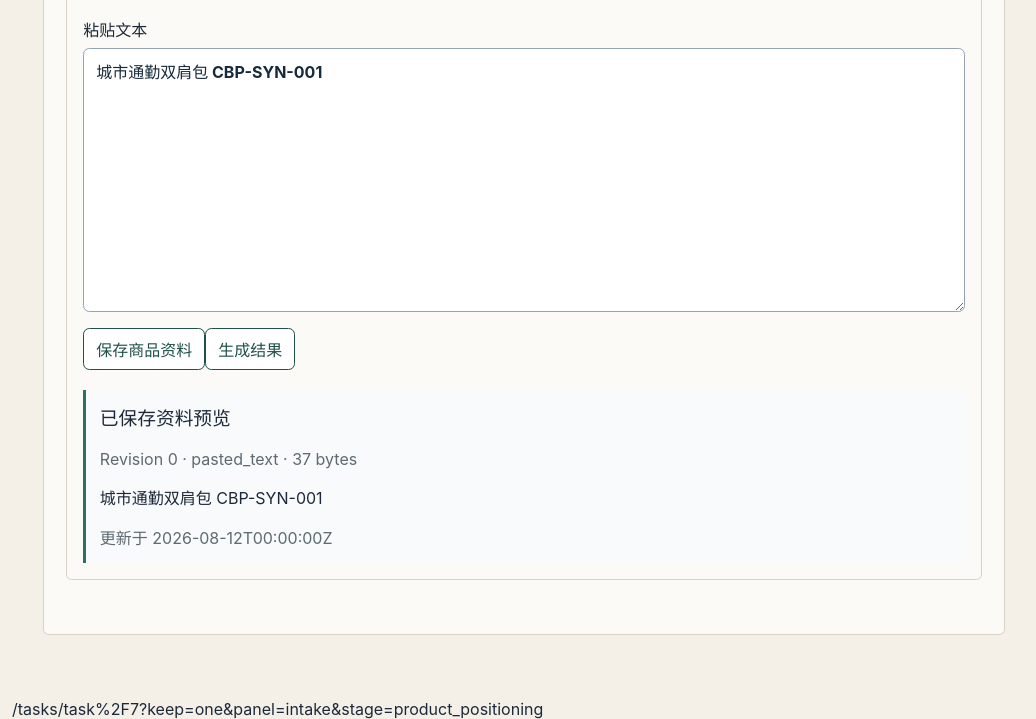
Test: TaskWorkbench › keeps TaskGateway actions and canonical query semantics behind the shell
This screenshot has width=1036, height=719.
(page scrolled)
Click the button "生成结果" at x=250, y=349, box [205, 328, 295, 370]
(page scrolled)
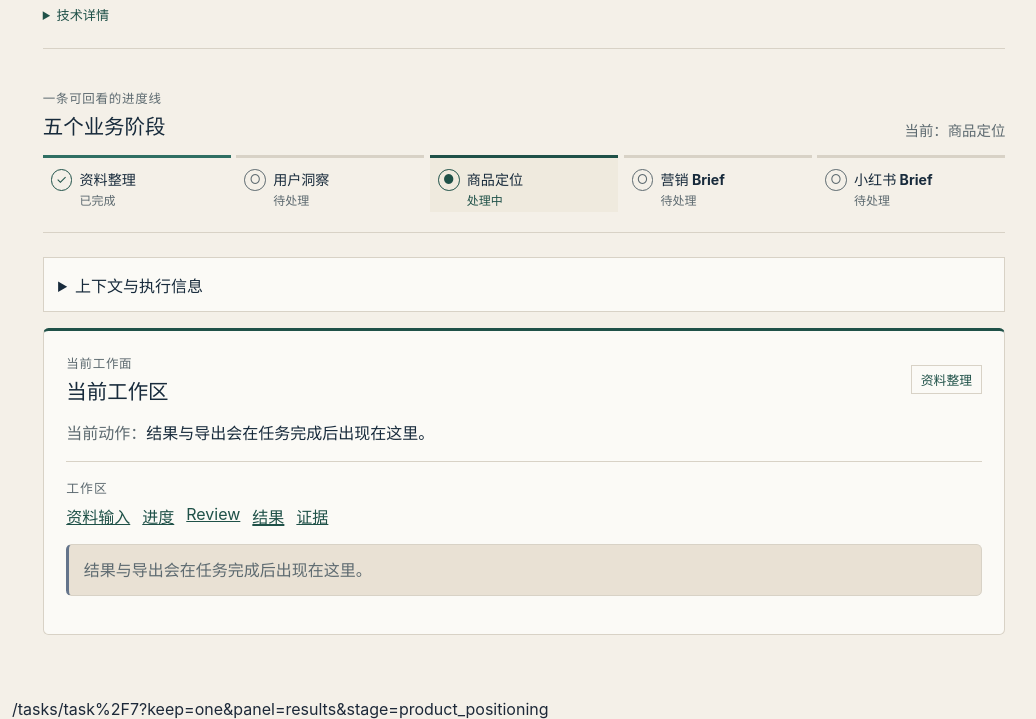
Result: the text with test id "location" shows "?keep=one&panel=results&stage=product_positioning" at [139, 699, 548, 718]
